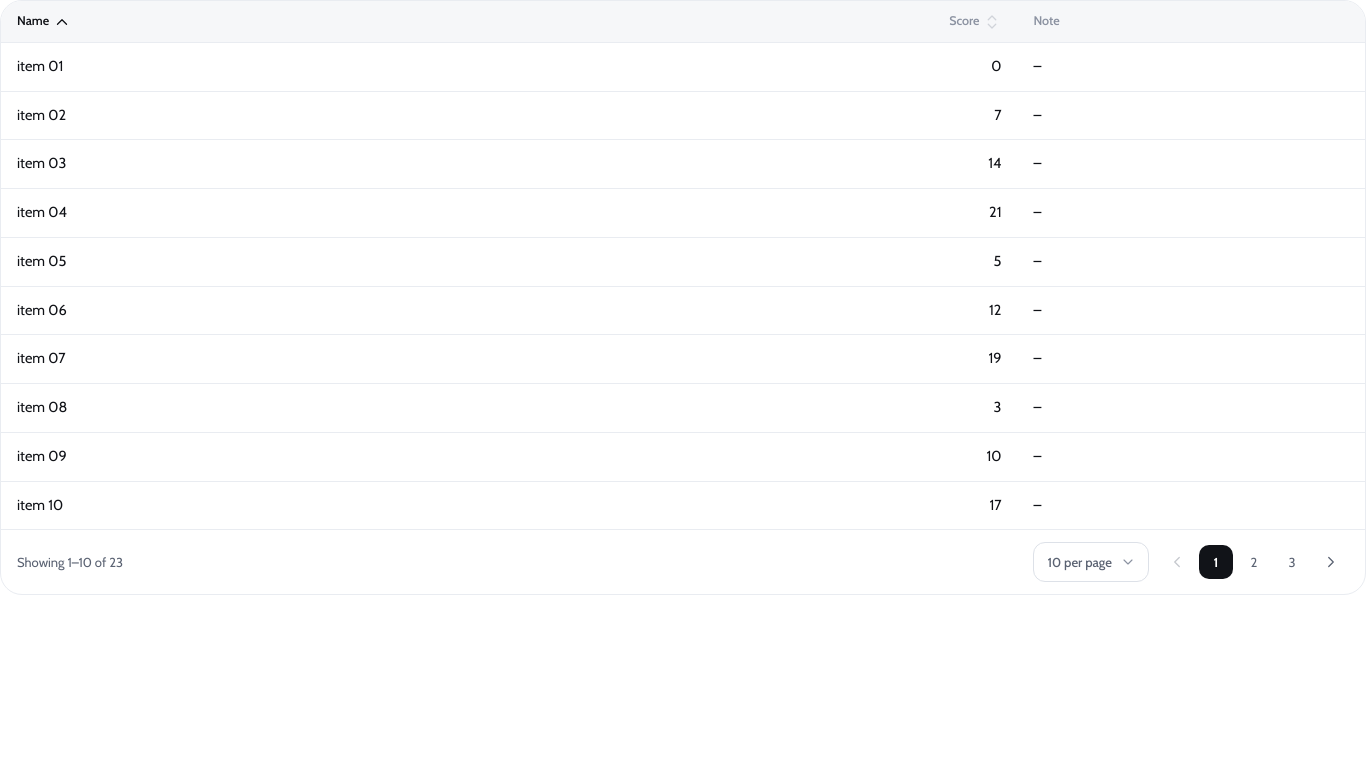
Test: DataTable sorting, paging, selection and empty state › pages with previous/next and numbers, and shows X–Y of Z
Expected: the button named "Previous page" is disabled, [1159,545,1195,579]
Click the button named "Next page" at (1331, 562), box [1313,545,1349,579]
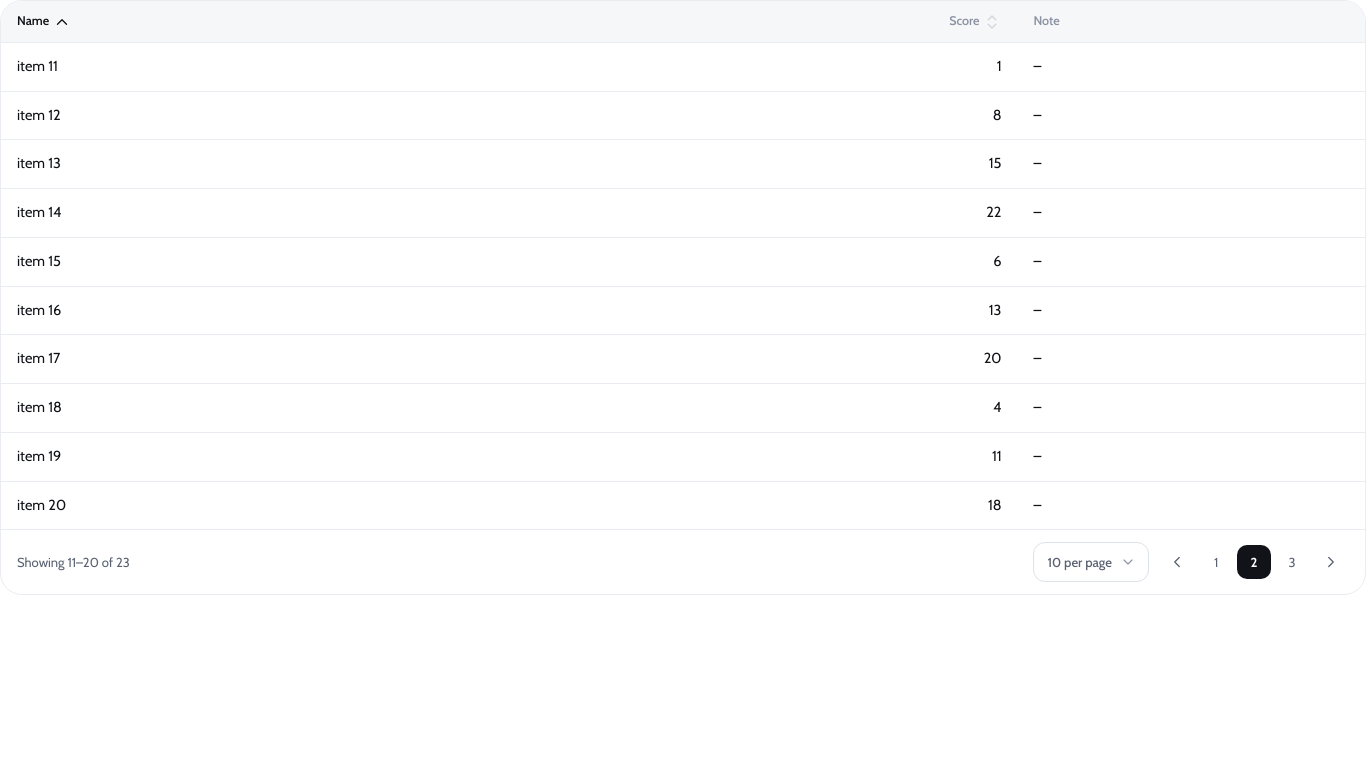
Expected: the text with class "num" reads "Showing 11–20 of 23", [17,554,130,570]
Expected: the cell "item 11" is shown, [1,42,515,91]
Click the button "3" at (1292, 562), box [1275,545,1309,579]
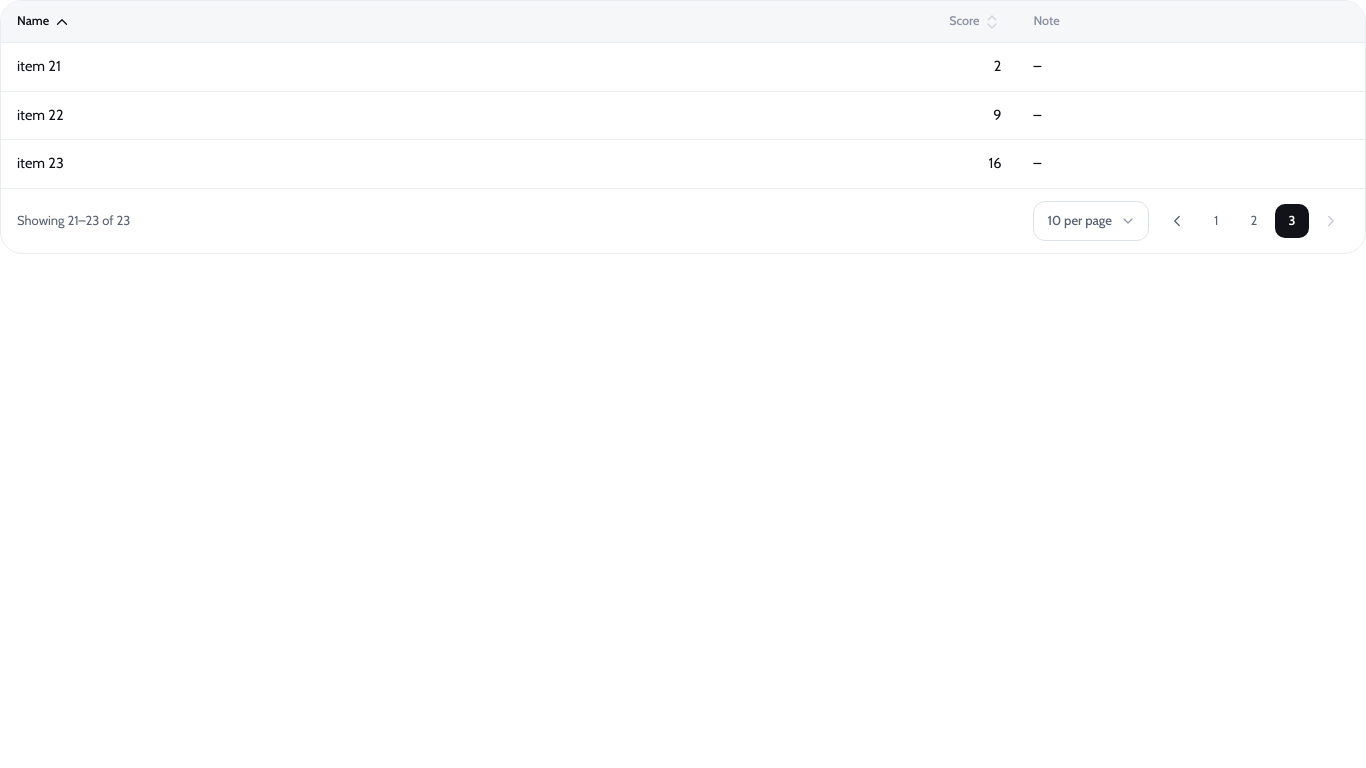
Expected: the button named "Next page" is disabled, [1313,204,1349,238]
Expected: the text with class "num" reads "Showing 21–23 of 23", [17,212,130,228]
